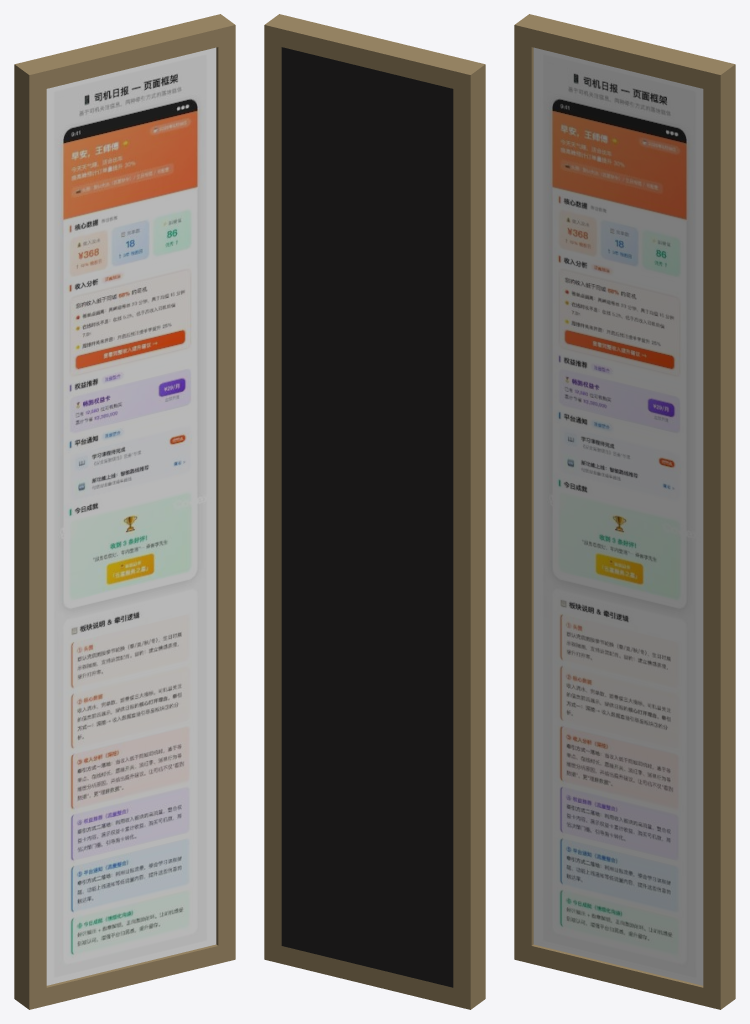
The picture shows the model from 3 angles, left to right: view 1: azimuth 30°, elevation 25°; view 2: azimuth 150°, elevation 25°; view 3: azimuth 330°, elevation 25°; orthographic projection.
Parts seen in each view (by area): view 1: ArtworkPrint, FrameLeft, FrameRight, FrameTop, FrameBottom; view 2: Backing, FrameLeft, FrameRight, FrameTop, FrameBottom; view 3: ArtworkPrint, FrameRight, FrameLeft, FrameTop, FrameBottom.
Part boxes in pixels (x1,y1,x2,y2): ArtworkPrint: (46,47,216,985); FrameLeft: (14,82,46,991); FrameRight: (216,43,235,945); FrameTop: (14,14,235,92); FrameBottom: (14,941,235,1009); Backing: (281,47,453,987); FrameLeft: (453,82,485,991); FrameRight: (264,43,281,945); FrameTop: (264,14,485,92); FrameBottom: (264,941,485,1009); ArtworkPrint: (533,47,703,985); FrameRight: (703,82,735,991); FrameLeft: (514,43,533,945); FrameTop: (514,14,735,92); FrameBottom: (514,941,735,1009).
Bounding box in the file's own units: 0.24 × 1.04 × 0.03.
3 materials, 1 textured.
